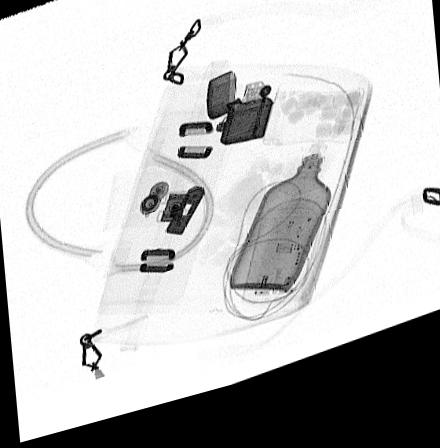Lighter: (204, 82, 272, 158)
